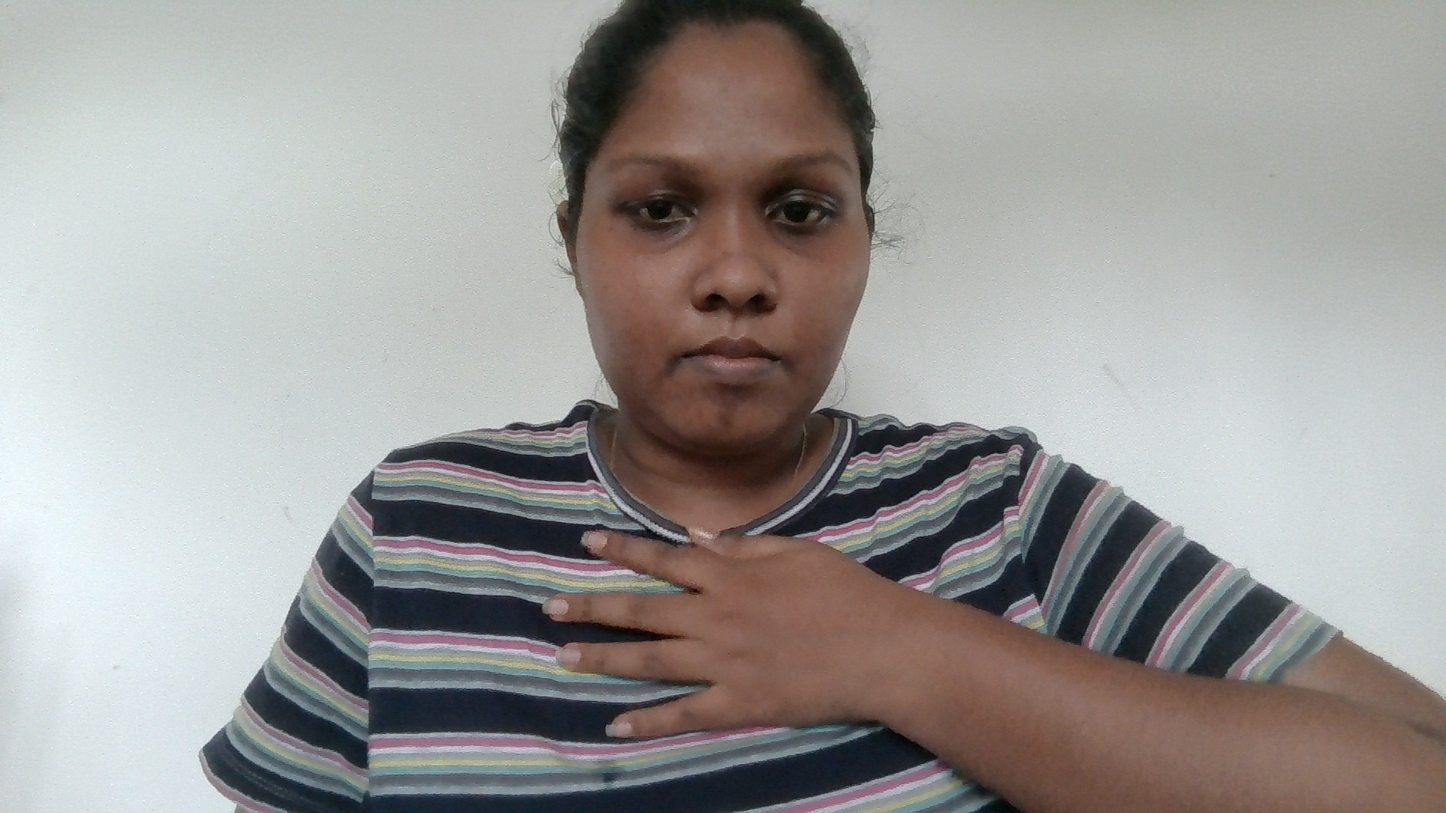Please: (529, 494, 903, 775)
